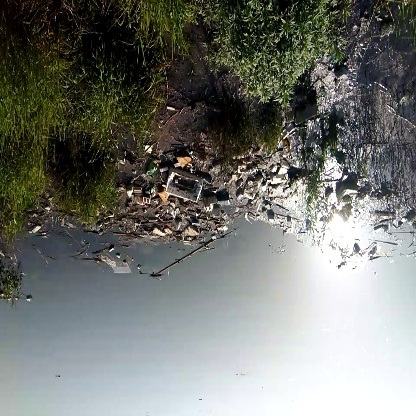branch: (153, 244, 214, 279)
